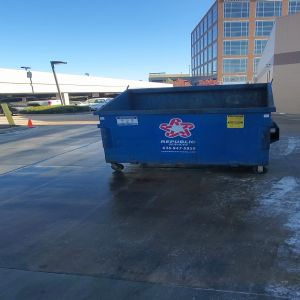Dumpster: (99, 83, 282, 175)
